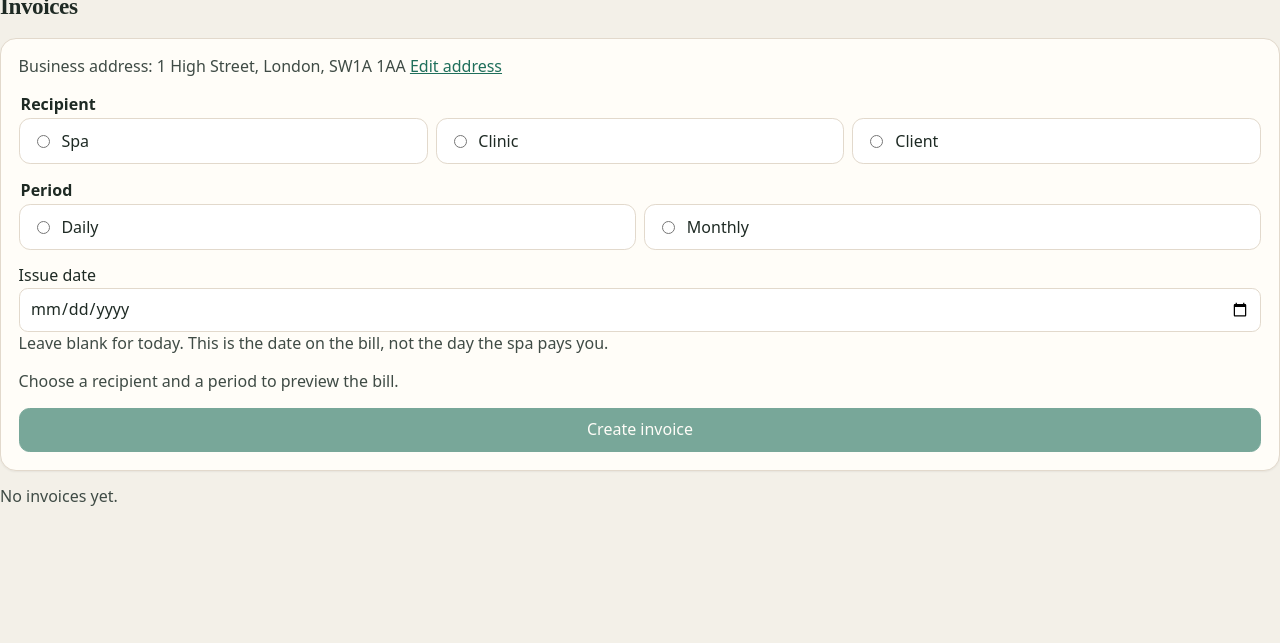
records › shows an invoice preview total
Click the radio button labelled "Spa". click: point(43, 141)
box: [37,135,50,148]
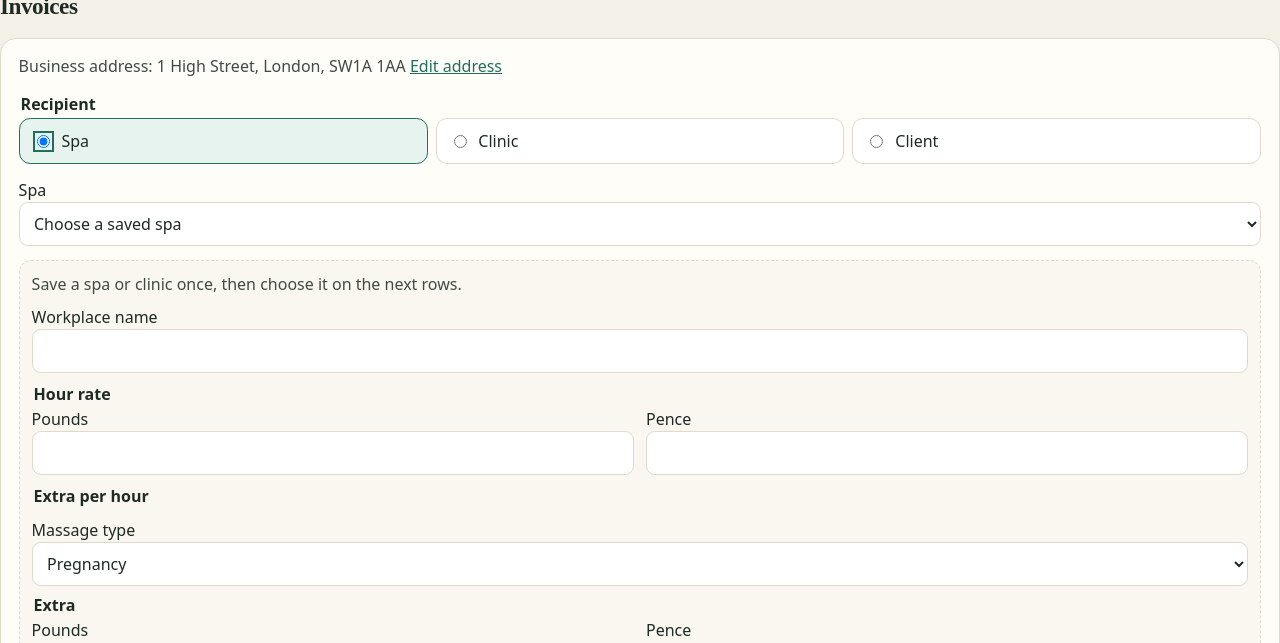
Select "North Spa" in the dropdown labelled "Spa". click: point(640, 224)
box: [19,202,1261,246]
(page scrolled)
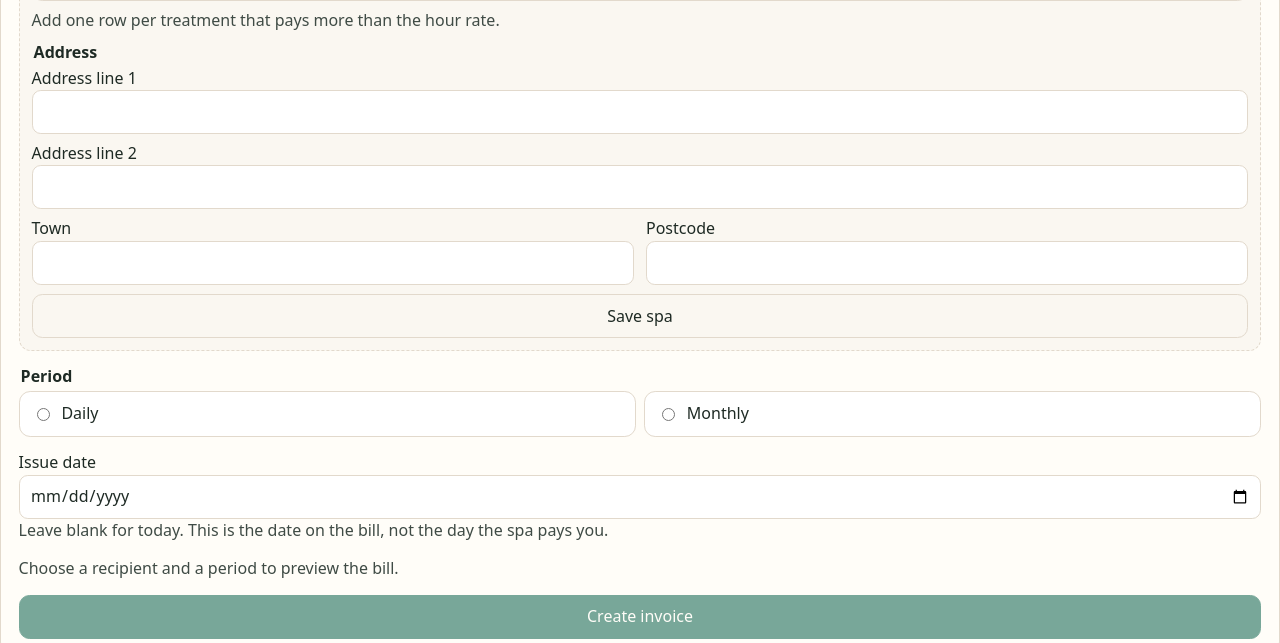
Click the radio button labelled "Daily". click: point(43, 414)
box: [37,408,50,420]
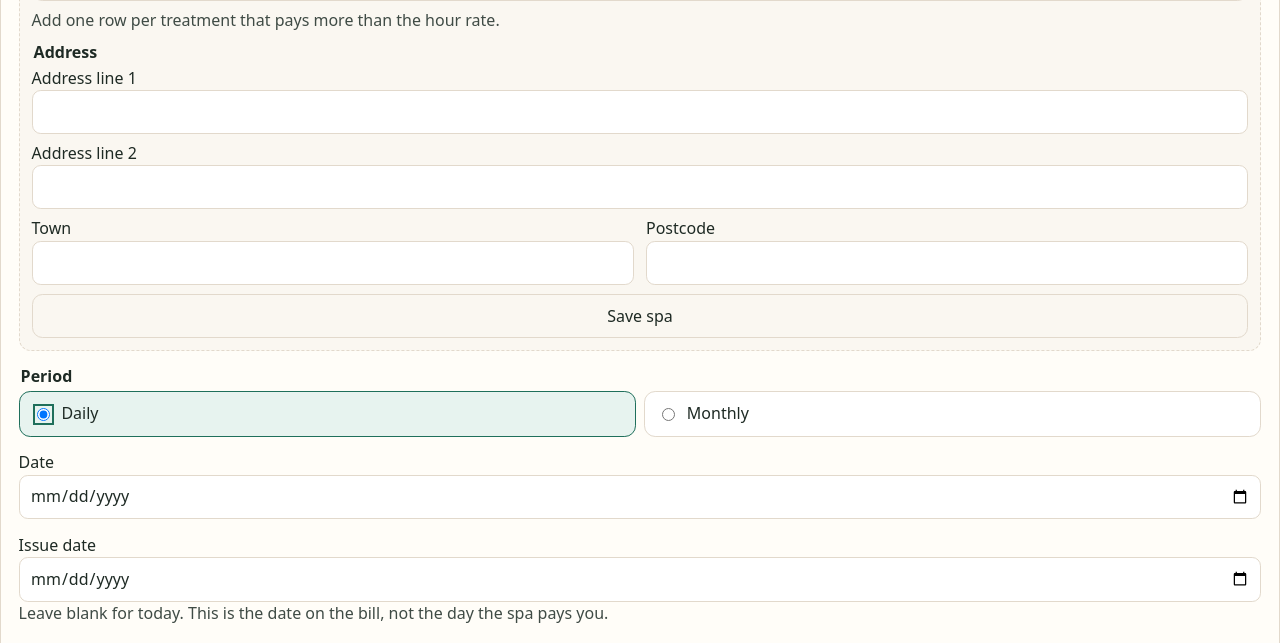
Type "2026-05-01" into the date field labelled "Date". click: point(640, 497)
box: [19,475,1261,519]
(page scrolled)
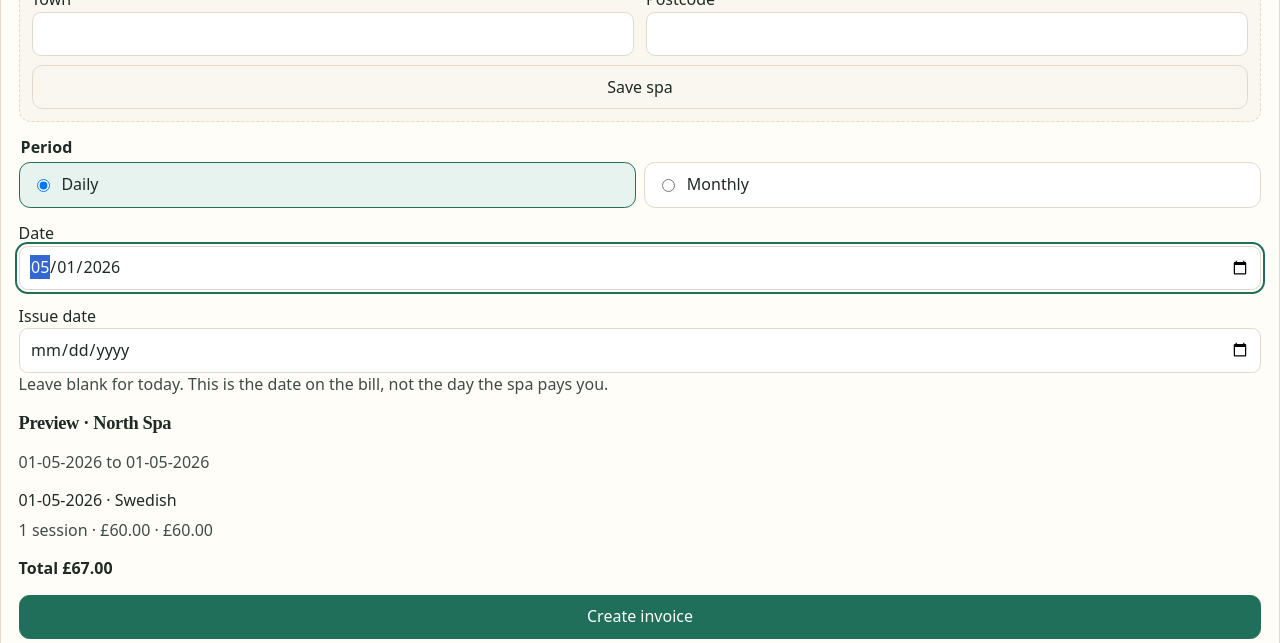
Expected: the text "Total £67.00" is shown, [19,557,113,579]
